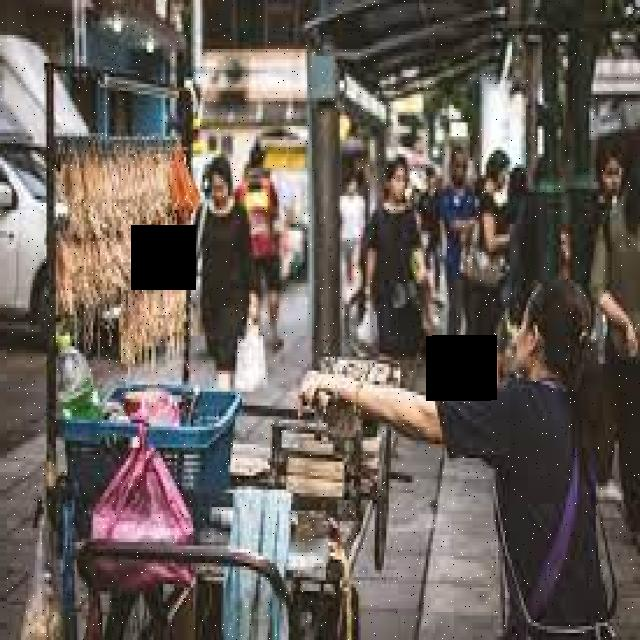food-booth: (21, 63, 393, 640)
